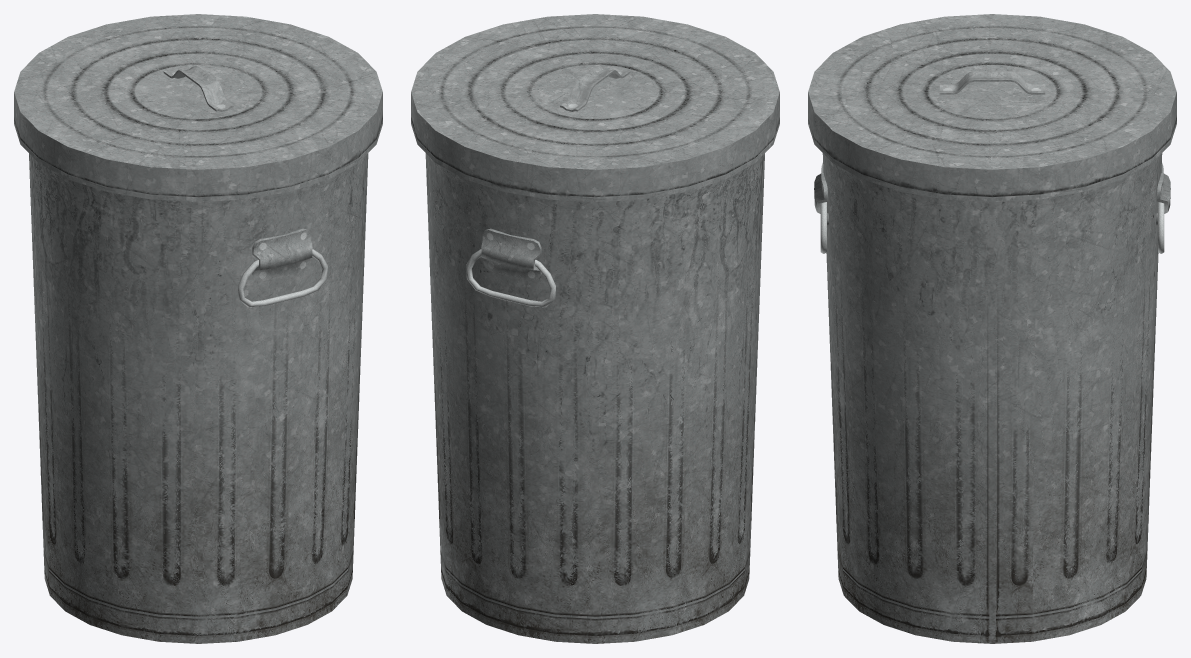
File: trash_can.glb
3 renders of one model, left to right at view 1: azimuth 30°, elevation 25°; view 2: azimuth 150°, elevation 25°; view 3: azimuth 270°, elevation 25°, orthographic.
Parts seen in each view (by area): view 1: Trash CAn_1; view 2: Trash CAn_1; view 3: Trash CAn_1.
Part boxes in pixels (x1,y1,x2,y2): Trash CAn_1: [14, 14, 382, 643]; Trash CAn_1: [411, 14, 779, 643]; Trash CAn_1: [808, 14, 1176, 643].
Size of the model in its own units: 56.71 by 85.42 by 56.71.
1 material, 1 textured.
